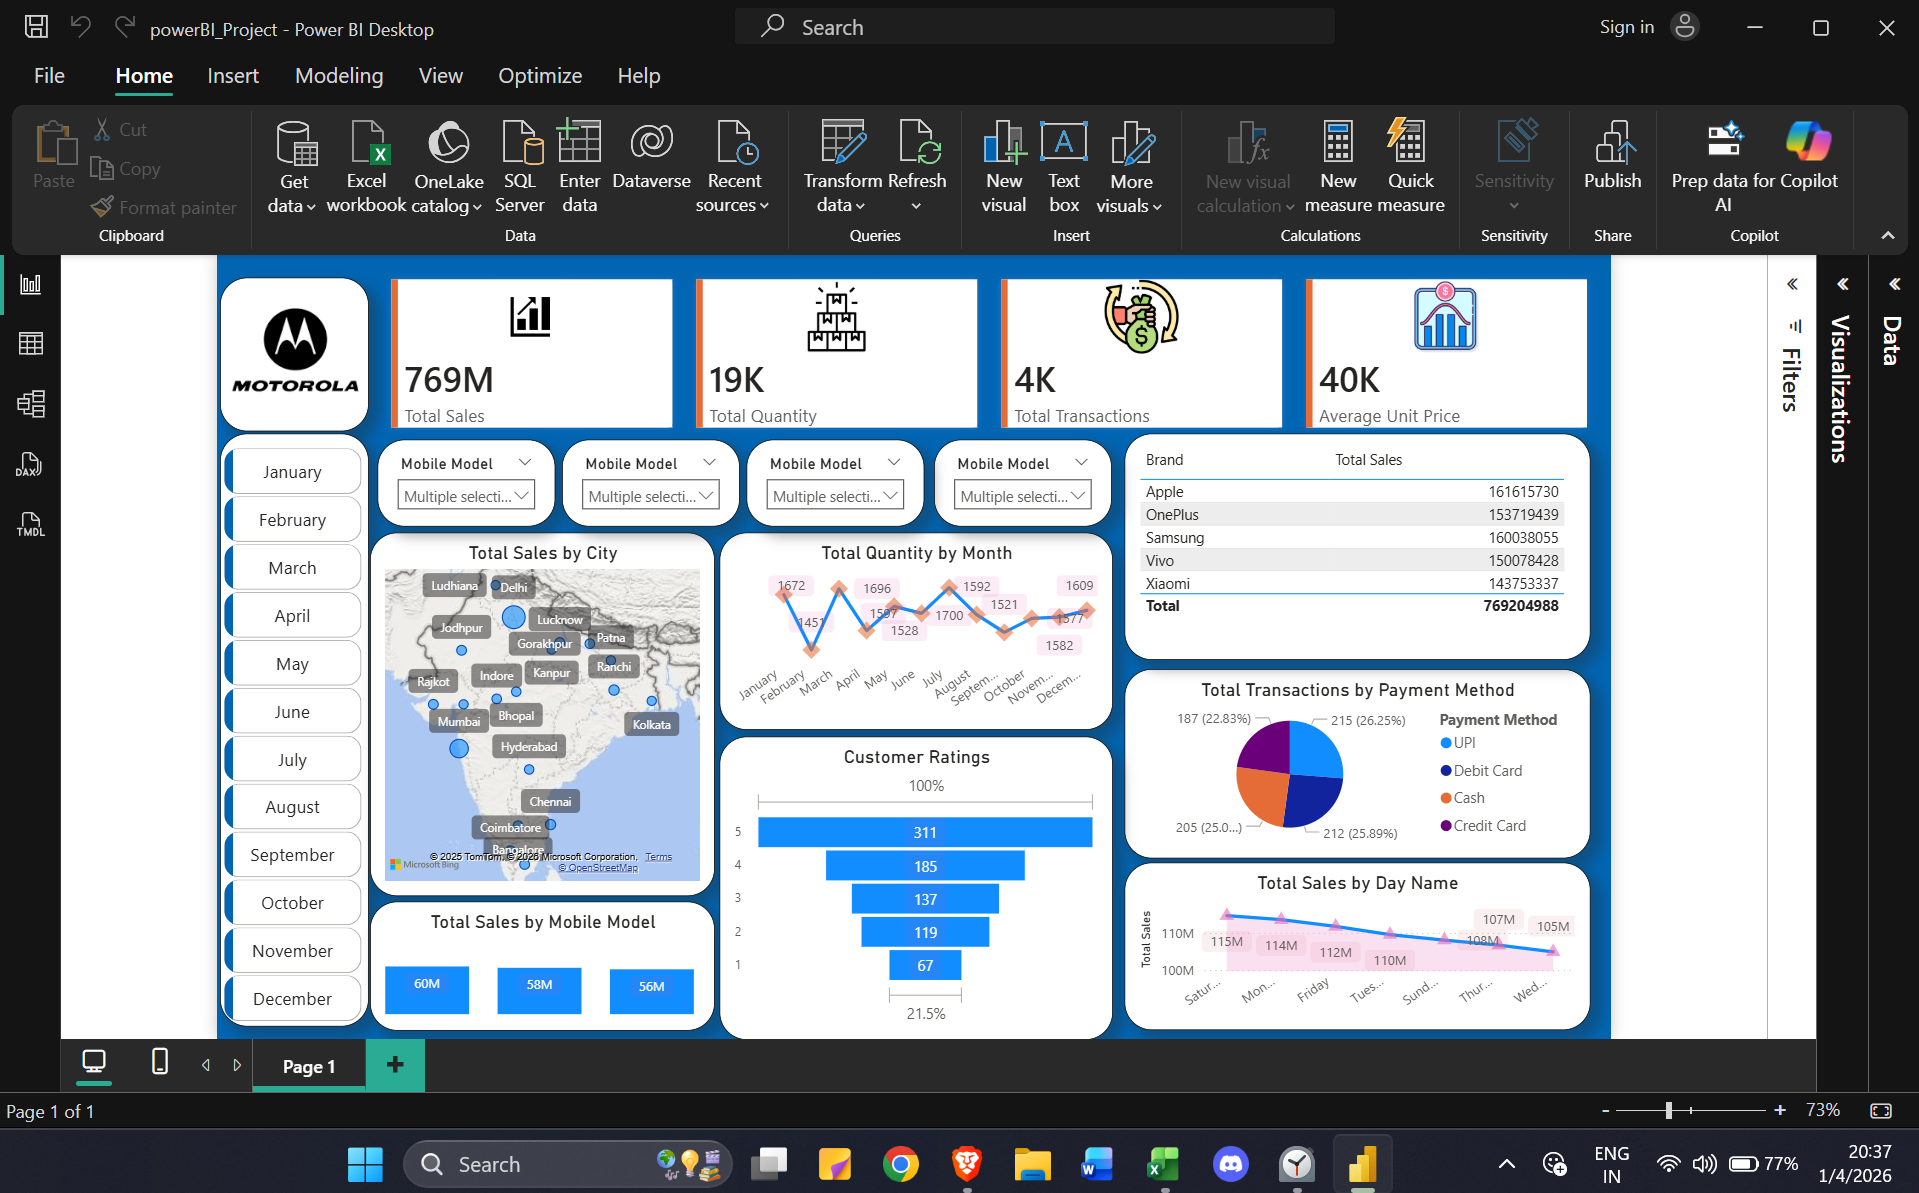

This screenshot's page, from the dashboard's own definition file:
{"tool":"powerbi","page":{"name":"Page 1","canvas":[1280,720],"ordinal":0},"visuals":[{"type":"shape","box":[3.1,20,136.9,141.5],"z":0},{"type":"image","box":[9.2,21.5,124.6,140],"z":1000},{"type":"shape","box":[3.1,164.6,136.9,544.6],"z":2000},{"type":"advancedSlicerVisual","fields":{"Values":["Sales_Data.Date.Variation.Date Hierarchy.Month"]},"box":[1.5,172.3,136.9,536.9],"z":3000},{"type":"cardVisual","fields":{"Data":["Sales_Data.Total Sales","Sales_Data.Total Quantity","Sales_Data.Total Transactions","Sales_Data.Average Unit Price"]},"box":[138.5,1.5,1141.5,178.5],"z":4000},{"type":"map","fields":{"Category":["Sales_Data.City"],"Size":["Sales_Data.Total Sales"]},"box":[140,255.4,316.9,333.8],"z":5000},{"type":"lineChart","fields":{"Category":["Sales_Data.Date.Variation.Date Hierarchy.Month","Sales_Data.Date.Variation.Date Hierarchy.Day"],"Y":["Sales_Data.Total Quantity"]},"box":[461.5,255.4,361.5,181.5],"z":6000},{"type":"clusteredColumnChart","fields":{"Category":["Sales_Data.Mobile Model"],"Y":["Sales_Data.Total Sales"]},"box":[140,593.8,316.9,118.5],"z":7000},{"type":"pieChart","fields":{"Category":["Sales_Data.Payment Method"],"Y":["Sales_Data.Total Transactions"]},"box":[833.8,380,427.7,173.8],"z":8000},{"type":"funnel","title":"Customer Ratings","fields":{"Category":["Sales_Data.Customer Ratings"],"Y":["CountNonNull(Sales_Data.Customer Ratings)"]},"box":[461.5,441.5,361.5,278.5],"z":9000},{"type":"areaChart","fields":{"Category":["Sales_Data.Day Name"],"Y":["Sales_Data.Total Sales"]},"box":[833.8,558.5,427.7,153.8],"z":10000},{"type":"tableEx","fields":{"Values":["Sales_Data.Brand","Sales_Data.Total Sales"]},"box":[833.8,164.6,427.7,207.7],"z":11000},{"type":"slicer","fields":{"Values":["Sales_Data.Mobile Model"]},"box":[147.7,169.2,163.1,80],"z":12000},{"type":"slicer","fields":{"Values":["Sales_Data.Mobile Model"]},"box":[316.9,169.2,163.1,80],"z":13000},{"type":"slicer","fields":{"Values":["Sales_Data.Mobile Model"]},"box":[658.5,169.2,163.1,80],"z":14000},{"type":"slicer","fields":{"Values":["Sales_Data.Mobile Model"]},"box":[486.2,169.2,163.1,80],"z":15000}]}

Visuals, with their boxes on the page's 1280x720 design canvas (x1, y1, x2, y2). These are canvas units, not pixel positions in the 1919x1193 screenshot, which may show the page scaled, cropped or inside an application window:
shape: <box>3,20,140,162</box>
image: <box>9,22,134,162</box>
shape: <box>3,165,140,709</box>
advancedSlicerVisual - Sales_Data.Date.Variation.Date Hierarchy.Month: <box>2,172,138,709</box>
cardVisual - Sales_Data.Total Sales x Sales_Data.Total Quantity: <box>138,2,1280,180</box>
map - Sales_Data.City x Sales_Data.Total Sales: <box>140,255,457,589</box>
lineChart - Sales_Data.Date.Variation.Date Hierarchy.Month x Sales_Data.Date.Variation.Date Hierarchy.Day: <box>462,255,823,437</box>
clusteredColumnChart - Sales_Data.Mobile Model x Sales_Data.Total Sales: <box>140,594,457,712</box>
pieChart - Sales_Data.Payment Method x Sales_Data.Total Transactions: <box>834,380,1262,554</box>
"Customer Ratings" funnel: <box>462,442,823,720</box>
areaChart - Sales_Data.Day Name x Sales_Data.Total Sales: <box>834,558,1262,712</box>
tableEx - Sales_Data.Brand x Sales_Data.Total Sales: <box>834,165,1262,372</box>
slicer - Sales_Data.Mobile Model: <box>148,169,311,249</box>
slicer - Sales_Data.Mobile Model: <box>317,169,480,249</box>
slicer - Sales_Data.Mobile Model: <box>658,169,822,249</box>
slicer - Sales_Data.Mobile Model: <box>486,169,649,249</box>
